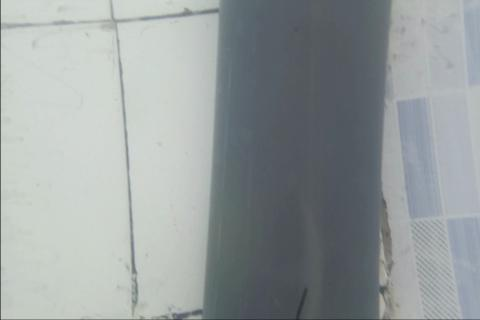keretakan: (293, 283, 308, 320)
